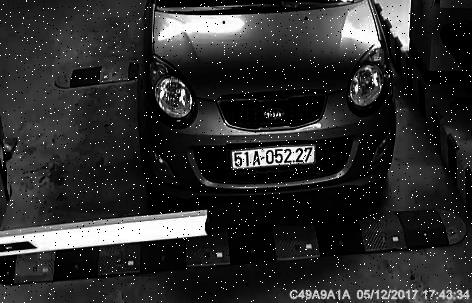License-plate: (228, 142, 325, 177)
